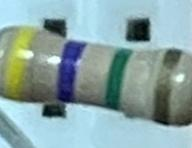Blue: (52, 38, 92, 101)
Green: (100, 46, 135, 108)
Side-Silver: (153, 47, 183, 127)
Yellow: (3, 24, 43, 103)
